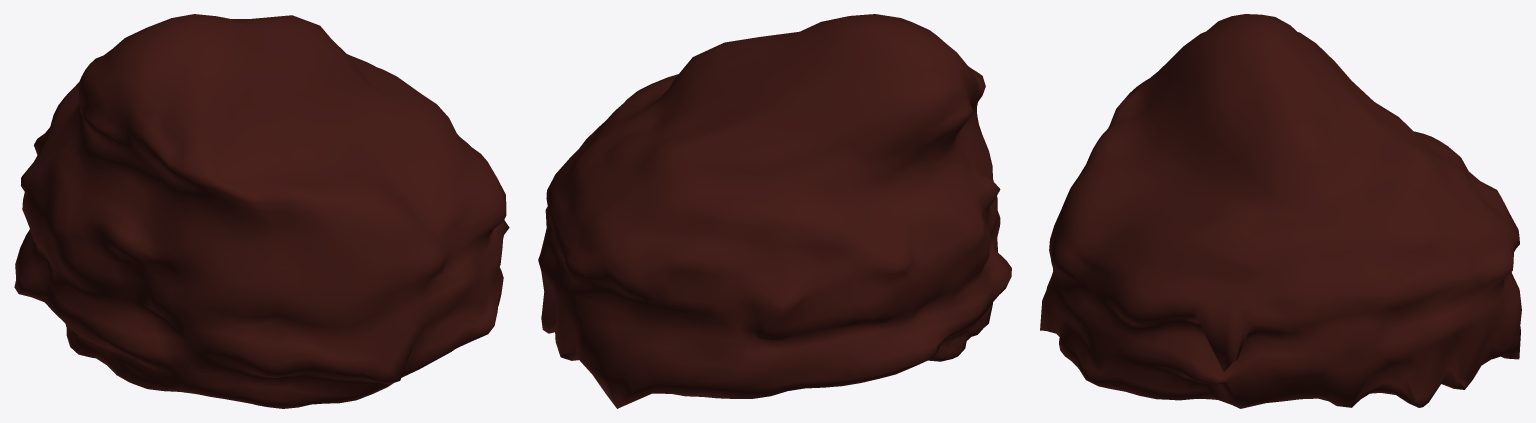
Rendered from heladochocolate.fbx.
3 views of the same model, side by side, from view 1: azimuth 30°, elevation 25°; view 2: azimuth 150°, elevation 25°; view 3: azimuth 270°, elevation 25° (orthographic). The views are drawn at different scales.
Parts seen in each view (by area): view 1: Icosphere; view 2: Icosphere; view 3: Icosphere.
Boxes of the visible parts, box(x1,y1,x2,y2) form: Icosphere: box(14, 14, 509, 408); Icosphere: box(538, 14, 1011, 408); Icosphere: box(1040, 14, 1521, 408).
Bounding box in the file's own units: 6.49 × 5.04 × 7.23.
